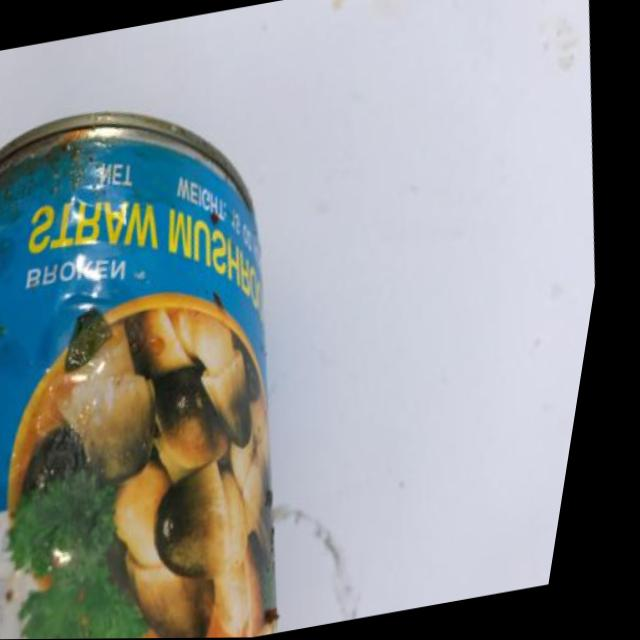metal: (0, 57, 389, 640)
